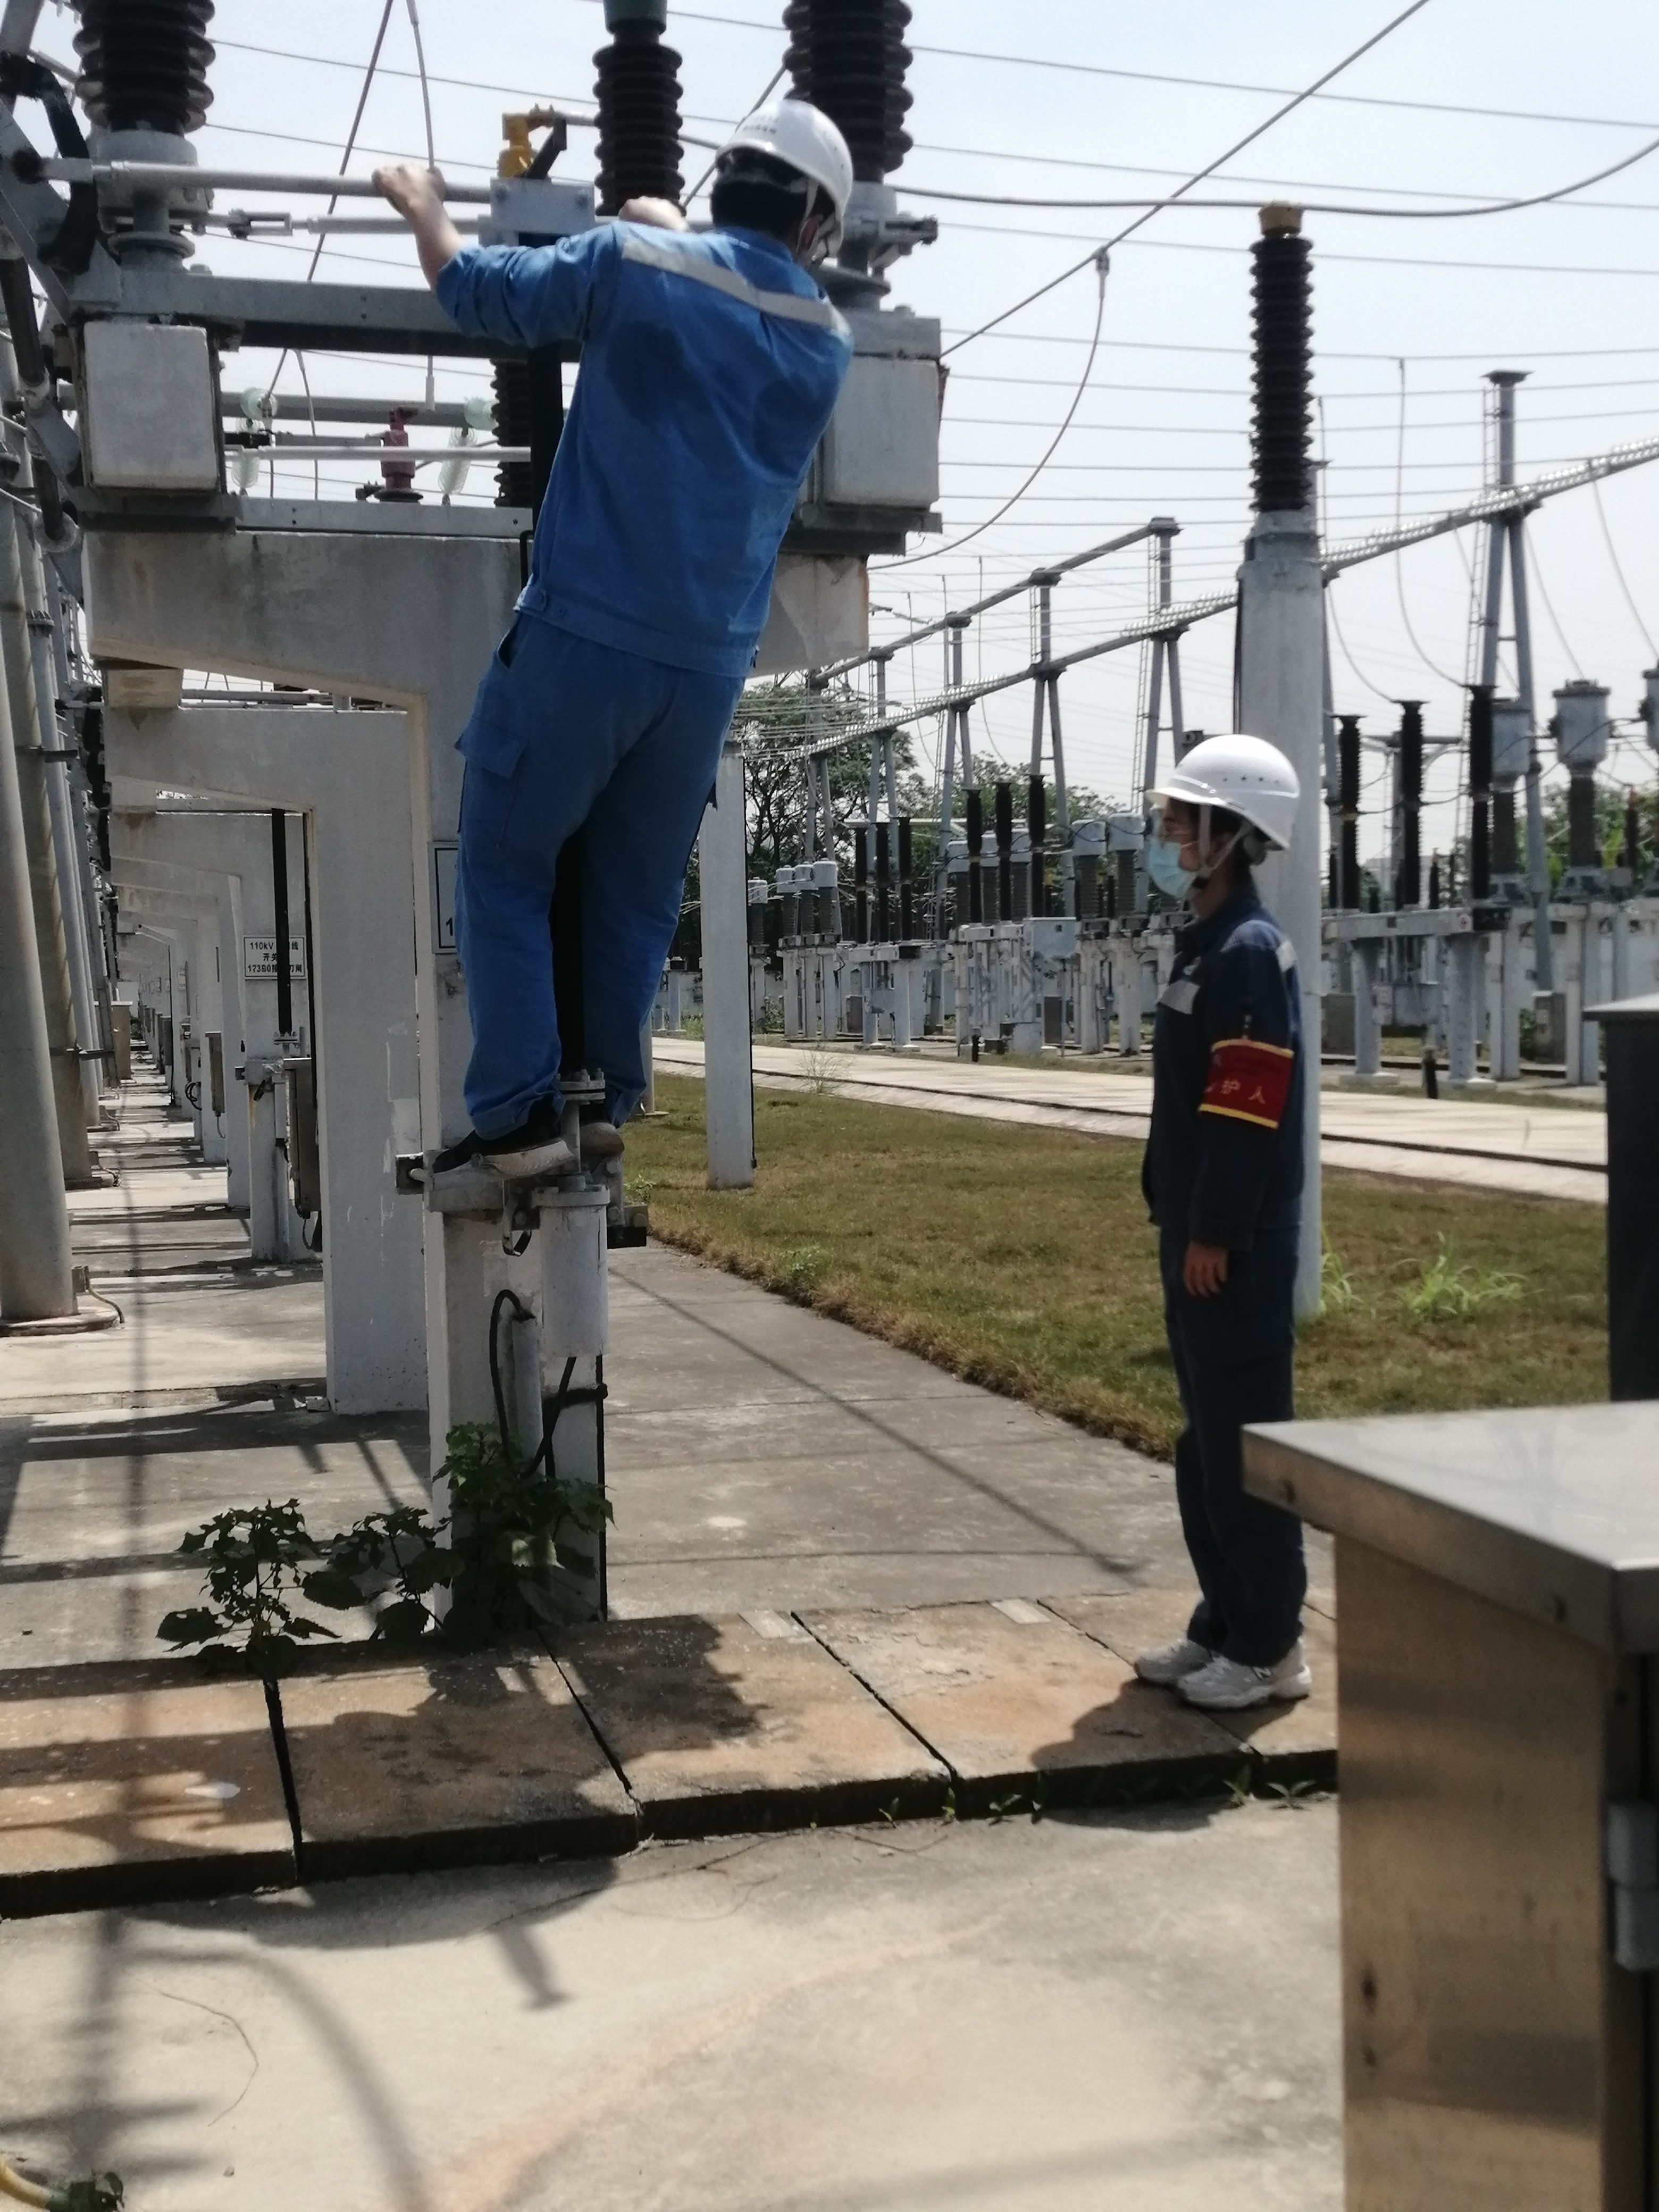downsuit: (439, 688, 739, 1125), (1162, 1244, 1305, 1651)
upsuit: (446, 216, 857, 660), (1148, 911, 1316, 1233)
wrongtop: (366, 155, 504, 314)
